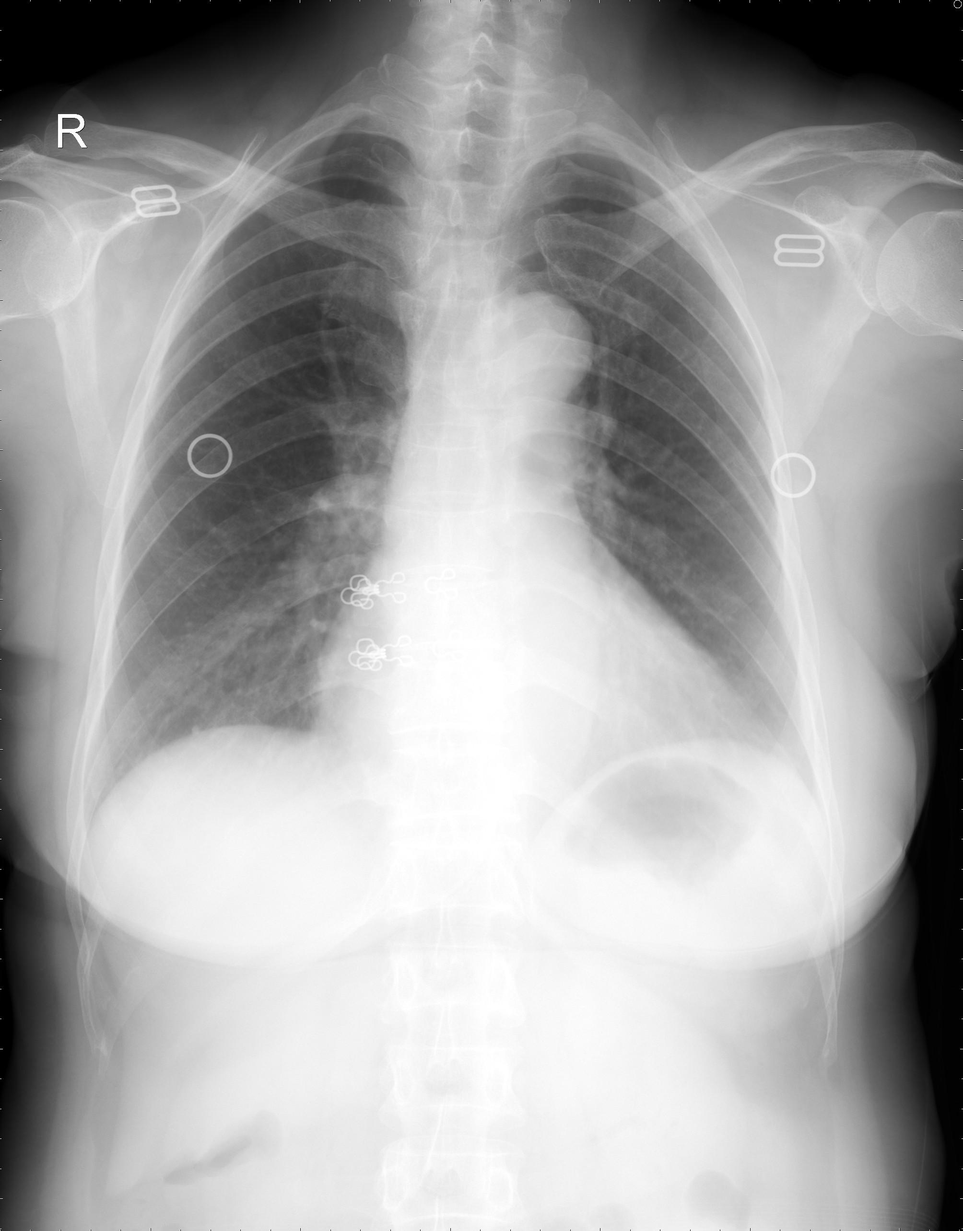Aortic enlargement: (473, 288, 596, 397)
Cardiomegaly: (309, 629, 763, 787)
